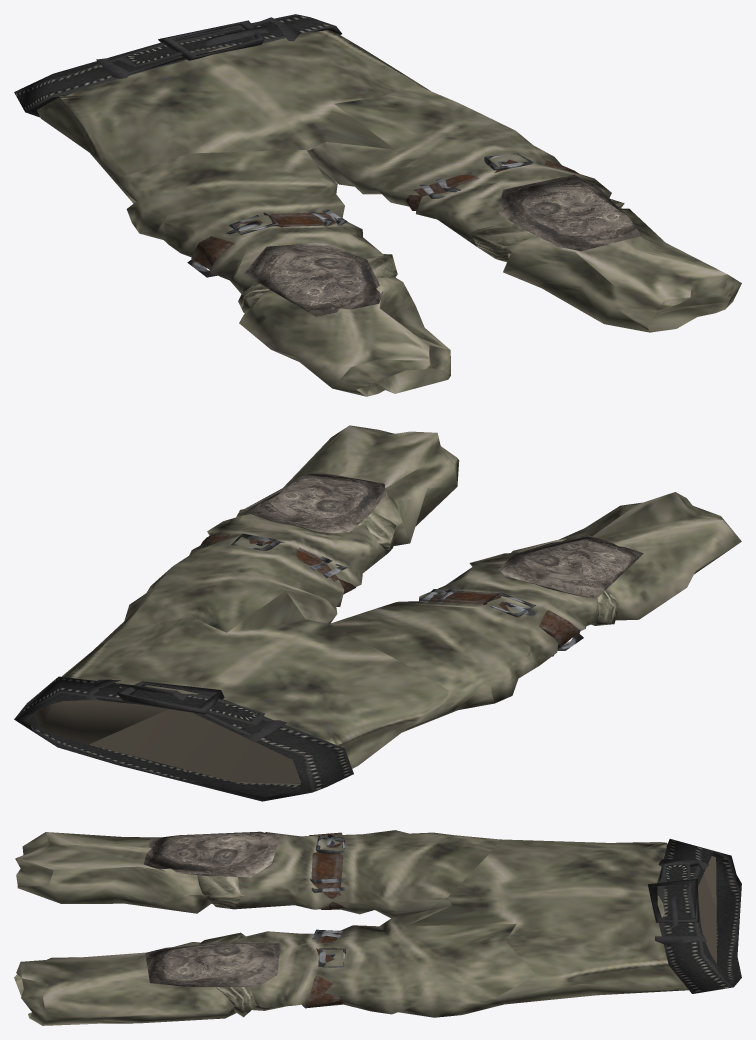
File: CazadorPants_Ground.fbx
3 views of the same model, one above another, from view 1: azimuth 30°, elevation 25°; view 2: azimuth 150°, elevation 25°; view 3: azimuth 270°, elevation 25° (orthographic). The views are drawn at different scales.
Visible parts, largest first — view 1: FullCoat; view 2: FullCoat; view 3: FullCoat.
Part boxes in pixels (x1,y1,x2,y2): FullCoat: (14,14,741,396); FullCoat: (14,425,741,801); FullCoat: (14,830,741,1025).
Bounding box in the file's own units: 0.2729 × 0.0385 × 0.4538.
